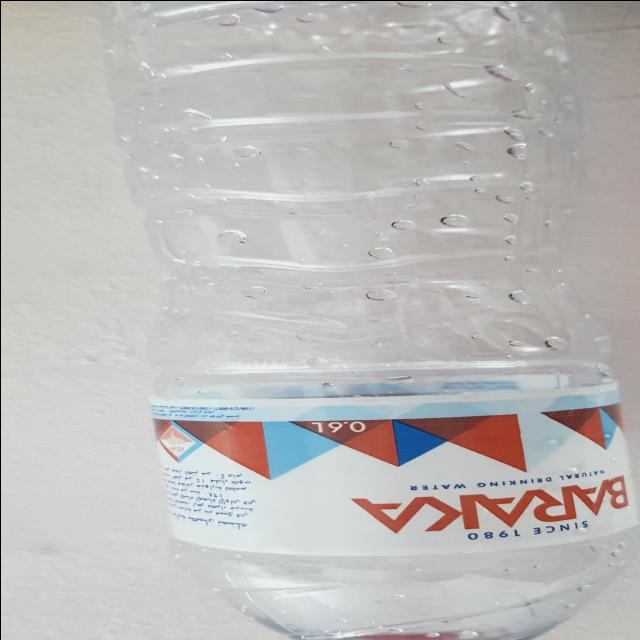plastic: (103, 0, 640, 640)
